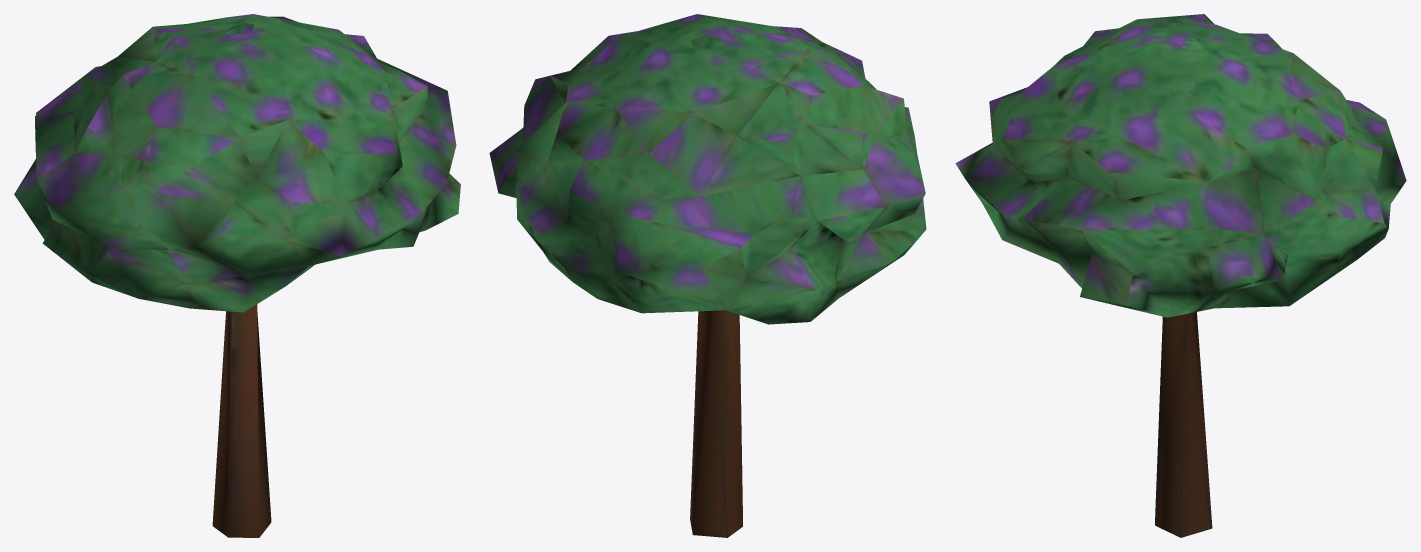
File: tree_round_b_far.glb
3 renders of one model, left to right at view 1: azimuth 30°, elevation 25°; view 2: azimuth 150°, elevation 25°; view 3: azimuth 270°, elevation 25°, orthographic. The views are drawn at different scales.
Visible parts, largest first — view 1: body; view 2: body; view 3: body.
Boxes of the visible parts, x1=… form: body: x1=14, y1=14, x2=460, y2=537; body: x1=489, y1=14, x2=926, y2=537; body: x1=955, y1=14, x2=1406, y2=537.
Bounding box in the file's own units: 3.69 × 4.39 × 3.69.
2 materials, 2 textured.
